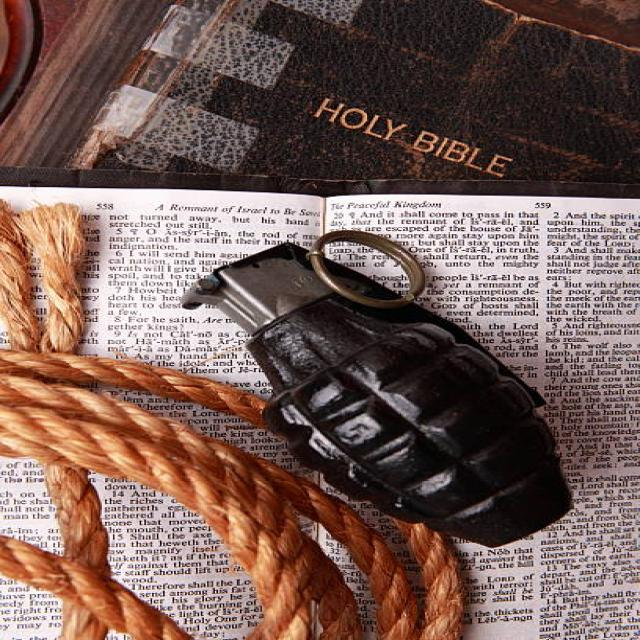grenade: (176, 226, 597, 555)
